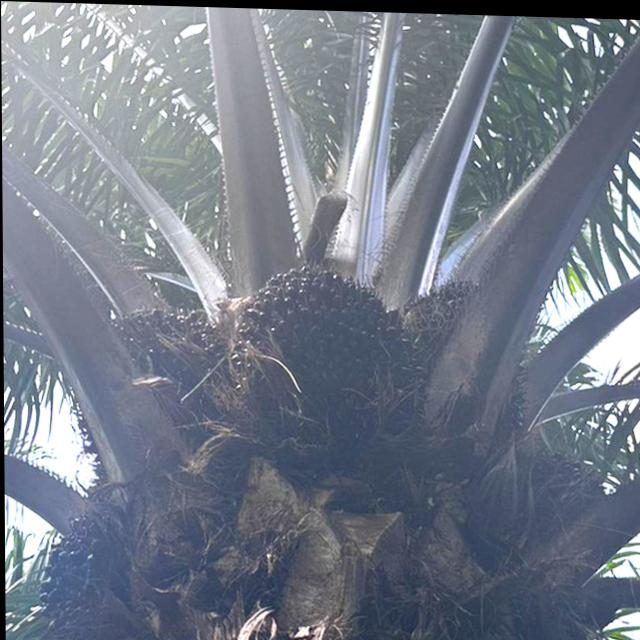almost: (228, 254, 408, 424)
